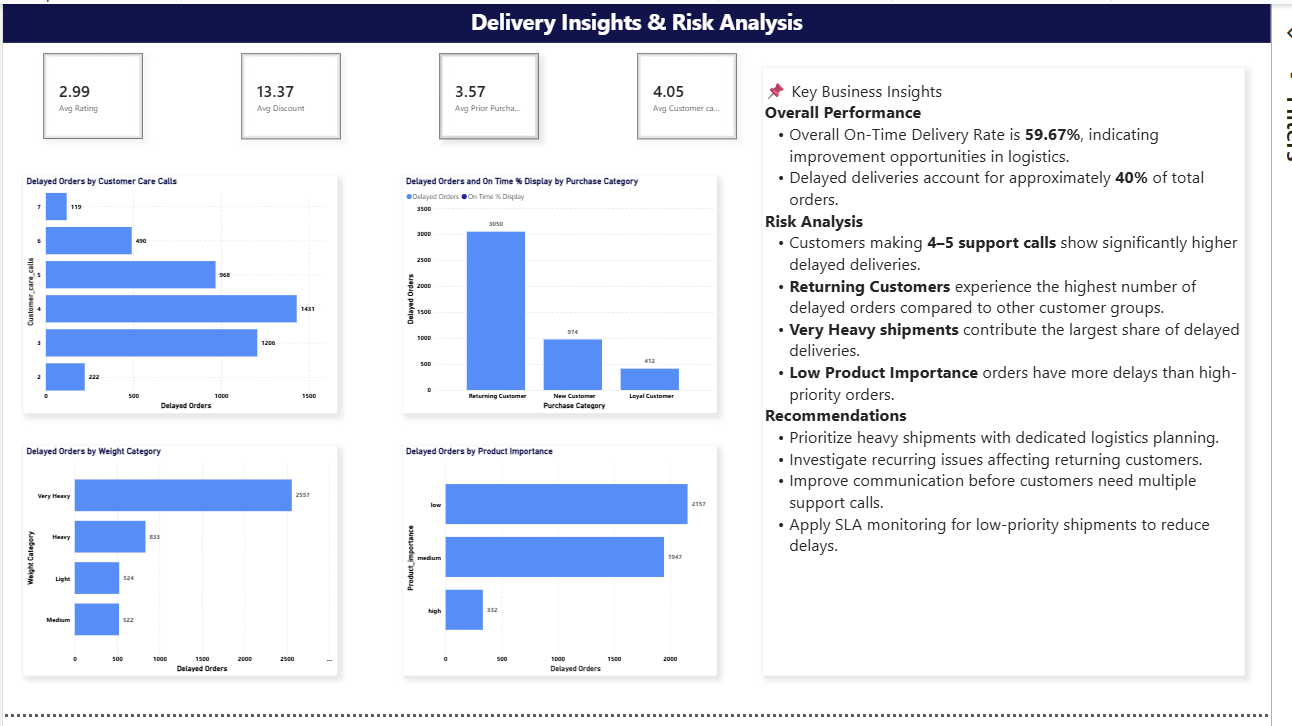

This screenshot's page, from the dashboard's own definition file:
{"tool":"powerbi","page":{"name":"Delivery Insights & Risk Analysis","canvas":[2500,1400],"ordinal":2},"visuals":[{"type":"textbox","box":[0,0,2499,76.9],"z":0},{"type":"cardVisual","fields":{"Data":["Fact_Orders.Avg Rating"]},"box":[79.9,97.8,195,168],"z":1000},{"type":"cardVisual","fields":{"Data":["Fact_Orders.Avg Discount"]},"box":[470.1,97.5,195.2,168.6],"z":2000},{"type":"cardVisual","fields":{"Data":["Fact_Orders.Avg Prior Purchases"]},"box":[860.5,97.5,195.2,168.6],"z":3000},{"type":"cardVisual","fields":{"Data":["Fact_Orders.Avg Care Calls"]},"box":[1251,97.5,195.2,168.6],"z":4000},{"type":"clusteredBarChart","title":"Delayed Orders by Customer Care Calls","fields":{"Category":["Fact_Orders.Customer_care_calls"],"Y":["Fact_Orders.Delayed Orders"]},"box":[38.4,335.7,621.1,470],"z":5000},{"type":"lineClusteredColumnComboChart","fields":{"Category":["Fact_Orders.Purchase Category"],"Y":["Fact_Orders.Delayed Orders"],"Y2":["Fact_Orders.On Time %"]},"box":[786.7,335.7,621.1,470],"z":6000},{"type":"clusteredBarChart","title":"Delayed Orders by Product Importance","fields":{"Category":["Fact_Orders.Product_importance"],"Y":["Fact_Orders.Delayed Orders"]},"box":[786.7,869.5,621.1,455.4],"z":7000},{"type":"clusteredBarChart","fields":{"Category":["Fact_Orders.Weight Category"],"Y":["Fact_Orders.Delayed Orders"]},"box":[38.4,869.5,621.1,455.4],"z":8000},{"type":"textbox","box":[1496.5,124.2,952.3,1200.7],"z":9000}]}

Visuals, with their boxes on the page's 2500x1400 design canvas (x1, y1, x2, y2). These are canvas units, not pixel positions in the 1292x726 screenshot, which may show the page scaled, cropped or inside an application window:
textbox: x1=0, y1=0, x2=2499, y2=77
cardVisual - Fact_Orders.Avg Rating: x1=80, y1=98, x2=275, y2=266
cardVisual - Fact_Orders.Avg Discount: x1=470, y1=98, x2=665, y2=266
cardVisual - Fact_Orders.Avg Prior Purchases: x1=860, y1=98, x2=1056, y2=266
cardVisual - Fact_Orders.Avg Care Calls: x1=1251, y1=98, x2=1446, y2=266
"Delayed Orders by Customer Care Calls" clusteredBarChart: x1=38, y1=336, x2=660, y2=806
lineClusteredColumnComboChart - Fact_Orders.Purchase Category x Fact_Orders.Delayed Orders: x1=787, y1=336, x2=1408, y2=806
"Delayed Orders by Product Importance" clusteredBarChart: x1=787, y1=870, x2=1408, y2=1325
clusteredBarChart - Fact_Orders.Weight Category x Fact_Orders.Delayed Orders: x1=38, y1=870, x2=660, y2=1325
textbox: x1=1496, y1=124, x2=2449, y2=1325
